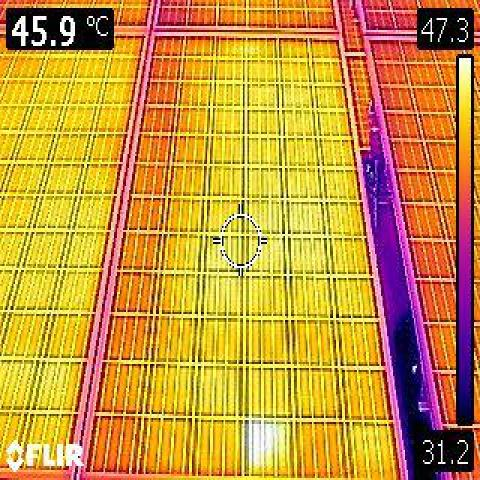fault: (242, 418, 288, 478)
